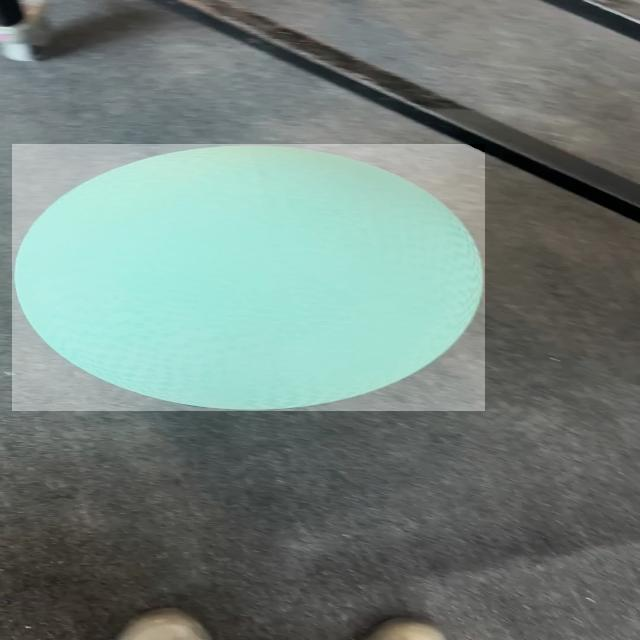Algae: (12, 144, 485, 411)
